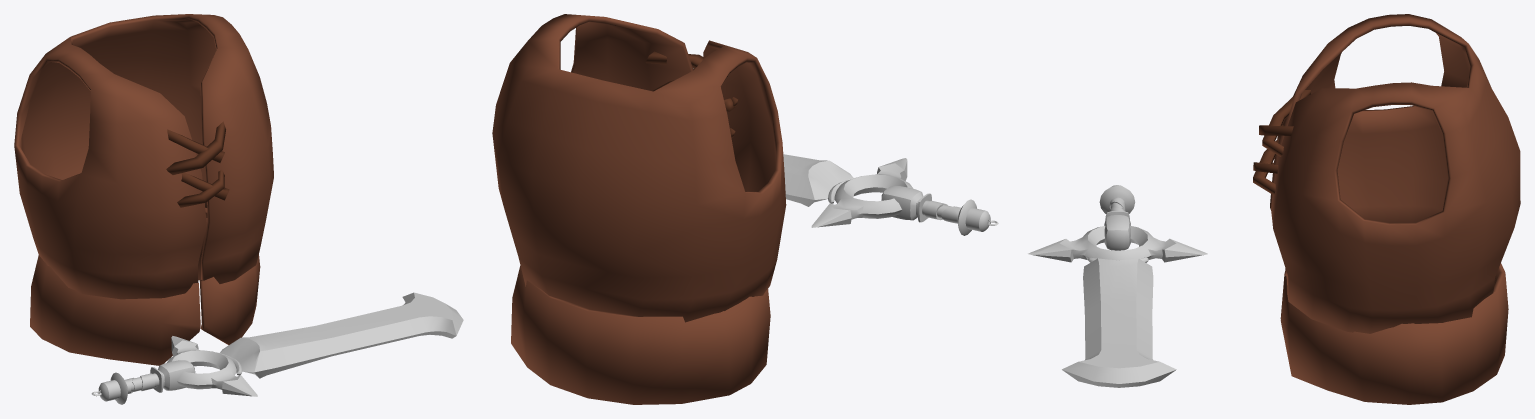
The model's file is kilic2zırh1.fbx.
The picture shows the model from 3 angles, left to right: view 1: azimuth 30°, elevation 25°; view 2: azimuth 150°, elevation 25°; view 3: azimuth 270°, elevation 25°; orthographic projection. The views are drawn at different scales.
Visible parts, largest first — view 1: Plane.002, Circle.019; view 2: Plane.002, Circle.019; view 3: Plane.002, Circle.019.
Boxes of the visible parts, x1,y1,x2,y2 form: Plane.002: [14, 14, 273, 365]; Circle.019: [91, 292, 463, 404]; Plane.002: [492, 14, 786, 404]; Circle.019: [783, 154, 998, 235]; Plane.002: [1253, 14, 1520, 404]; Circle.019: [1028, 185, 1207, 387].
Bounding box in the file's own units: 166 × 124 × 182.
